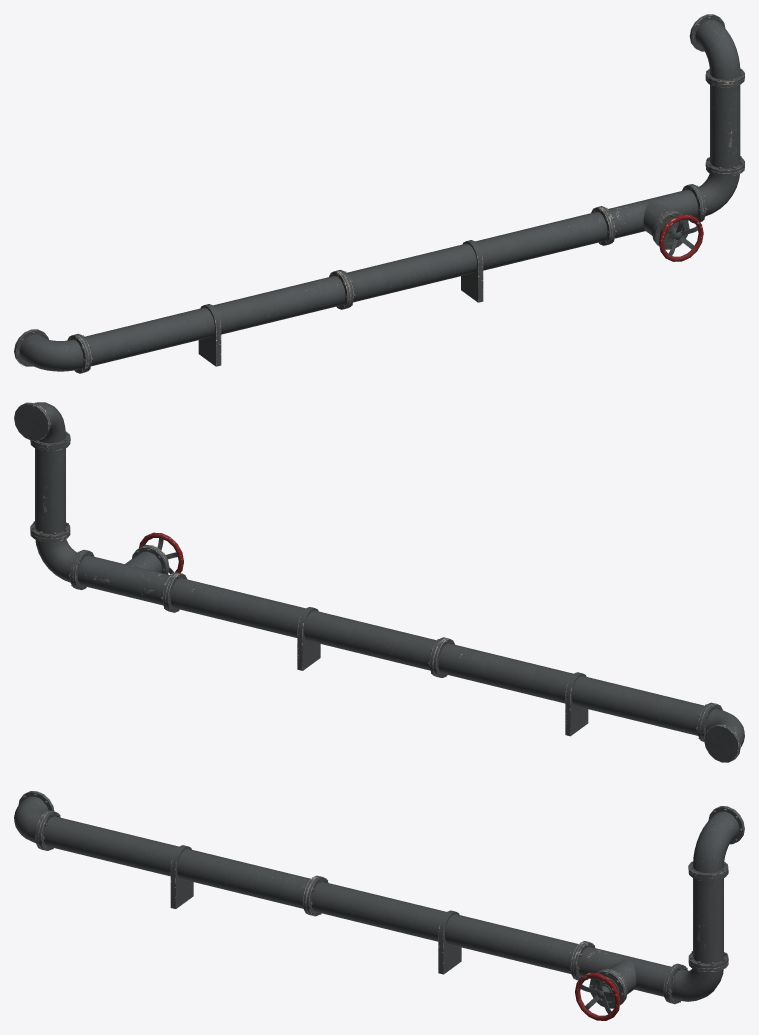
File: Pipe_Combinations_03.fbx
3 views of the same model, one above another, from view 1: azimuth 30°, elevation 25°; view 2: azimuth 150°, elevation 25°; view 3: azimuth 330°, elevation 25° (orthographic). The views are drawn at different scales.
Parts seen in each view (by area): view 1: LP_MId_Pipe.036; view 2: LP_MId_Pipe.036; view 3: LP_MId_Pipe.036.
Part boxes in pixels (x1,y1,x2,y2): LP_MId_Pipe.036: (14, 14, 744, 373); LP_MId_Pipe.036: (14, 402, 744, 762); LP_MId_Pipe.036: (14, 791, 744, 1020).
Size of the model in its own units: 550 by 152 by 69.78.
